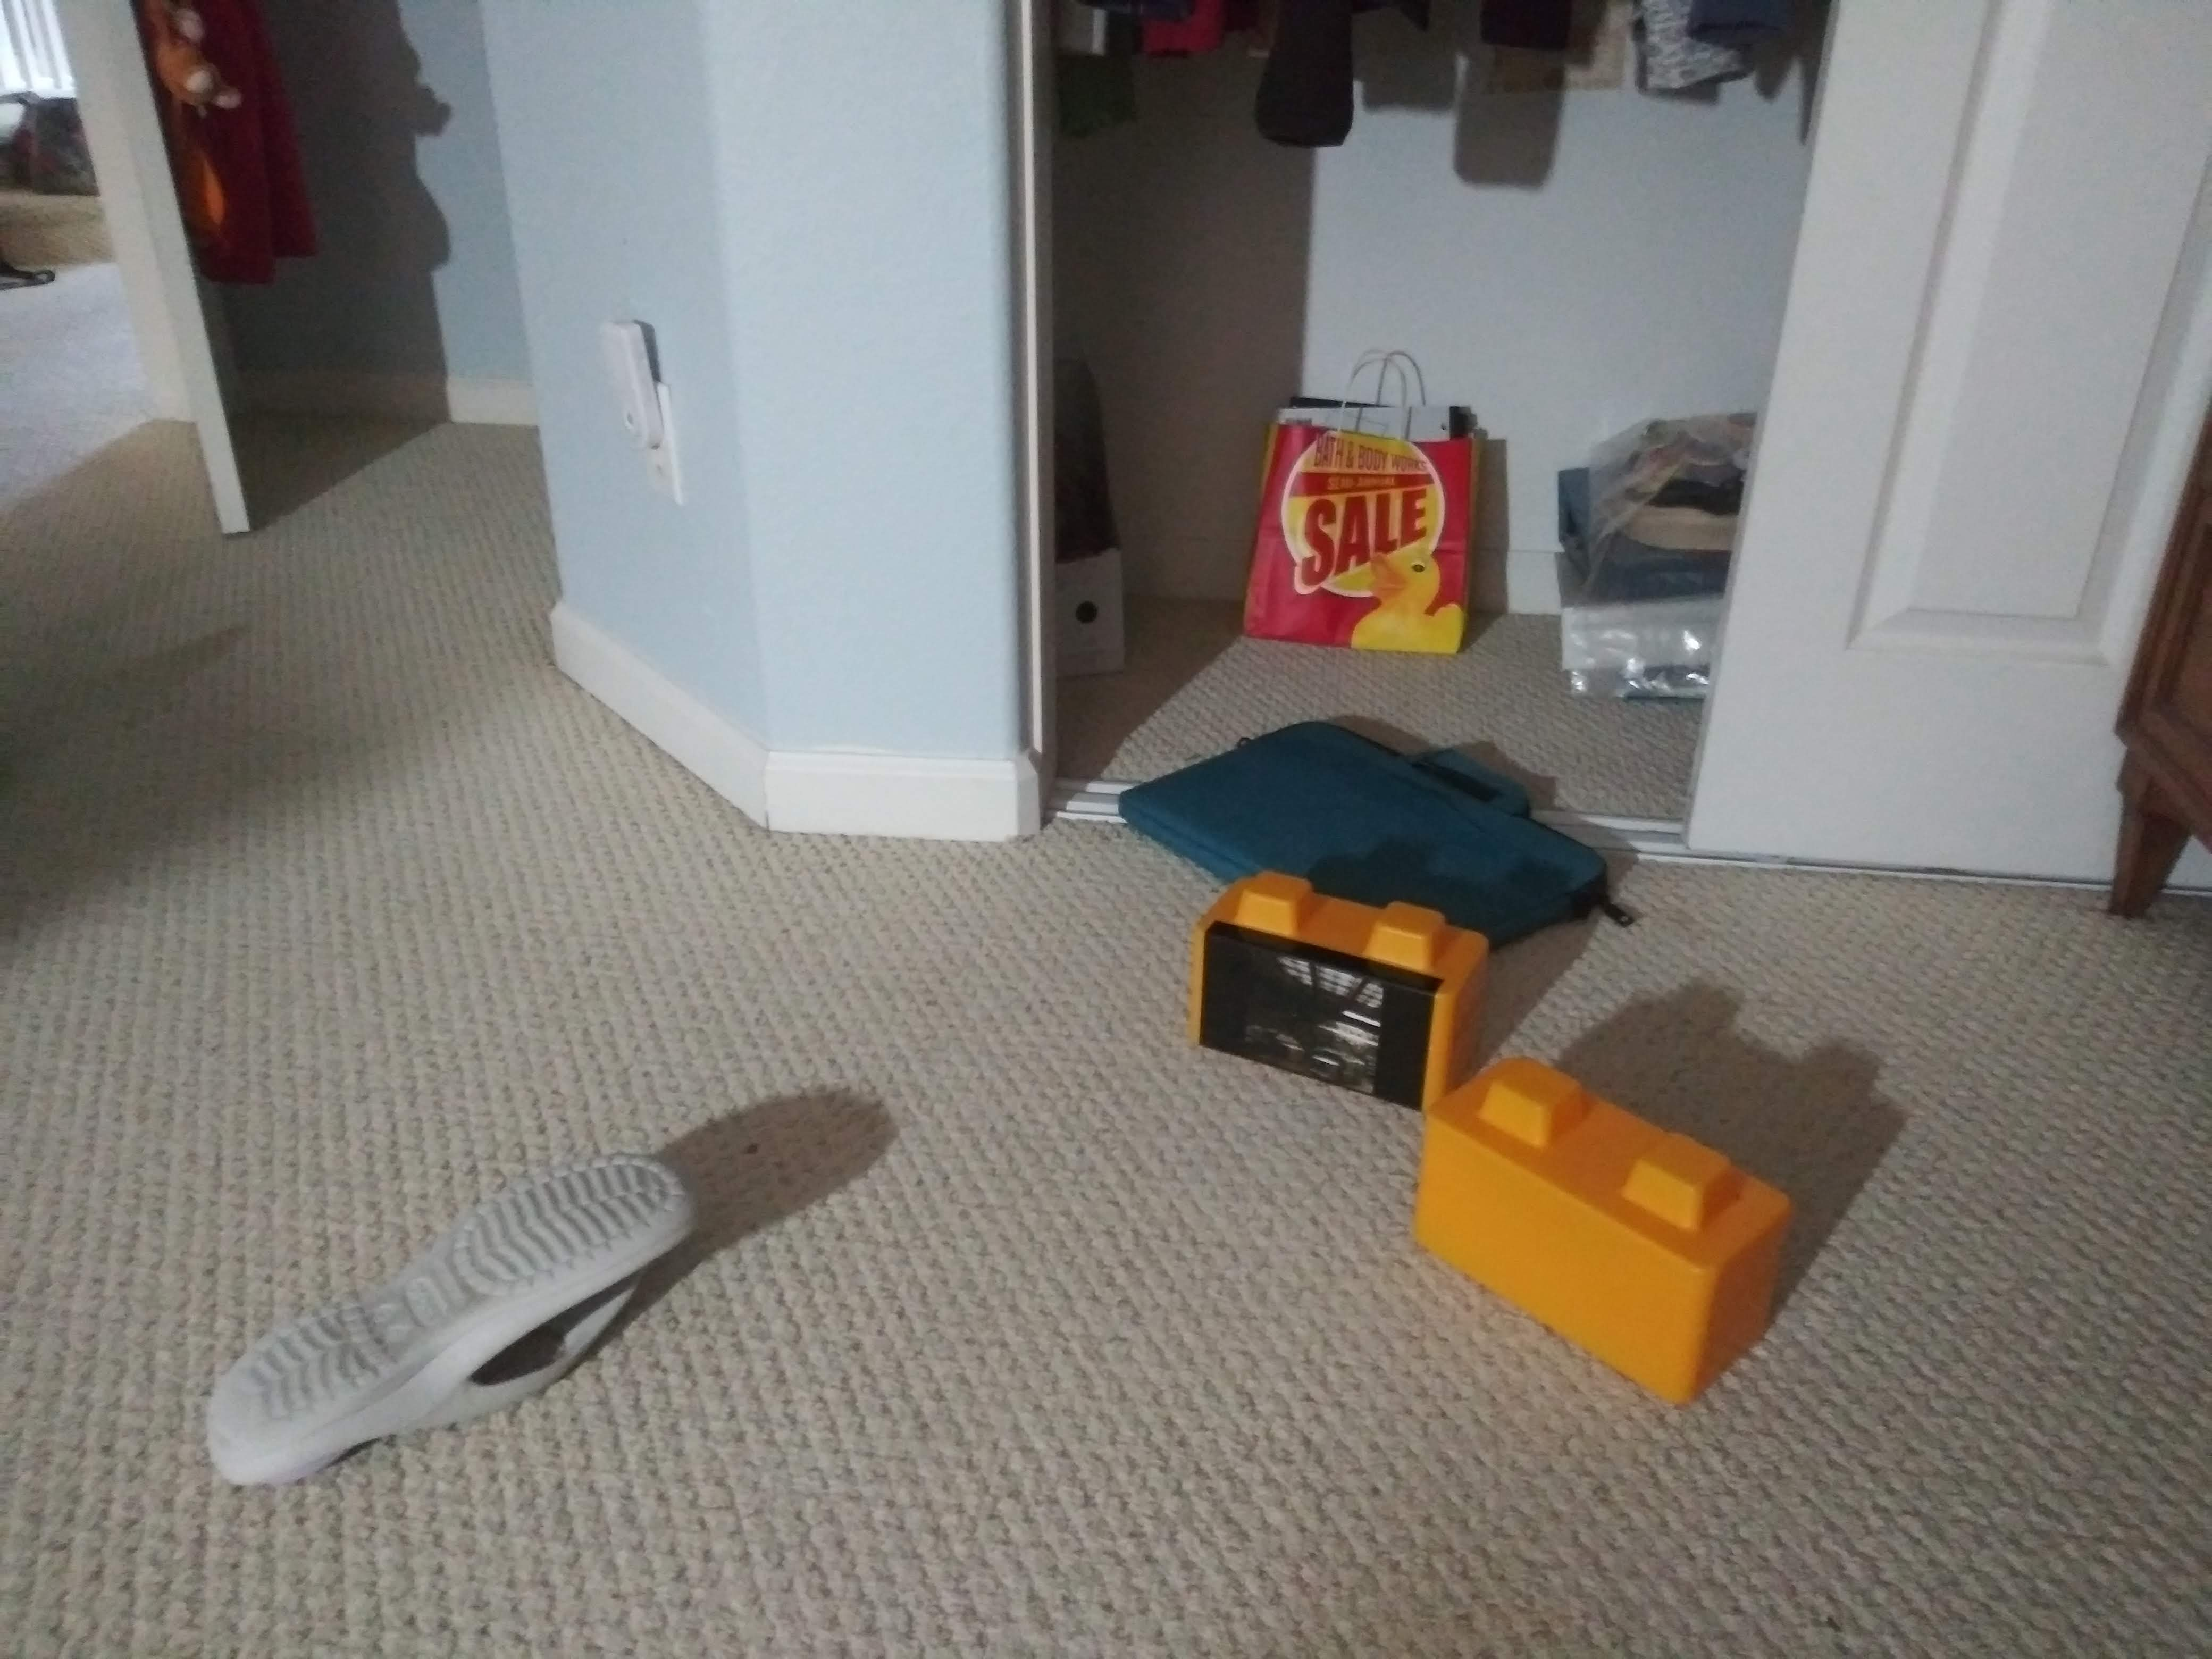skystone: (1186, 904, 1458, 1089)
stone: (1426, 1096, 1773, 1378)
